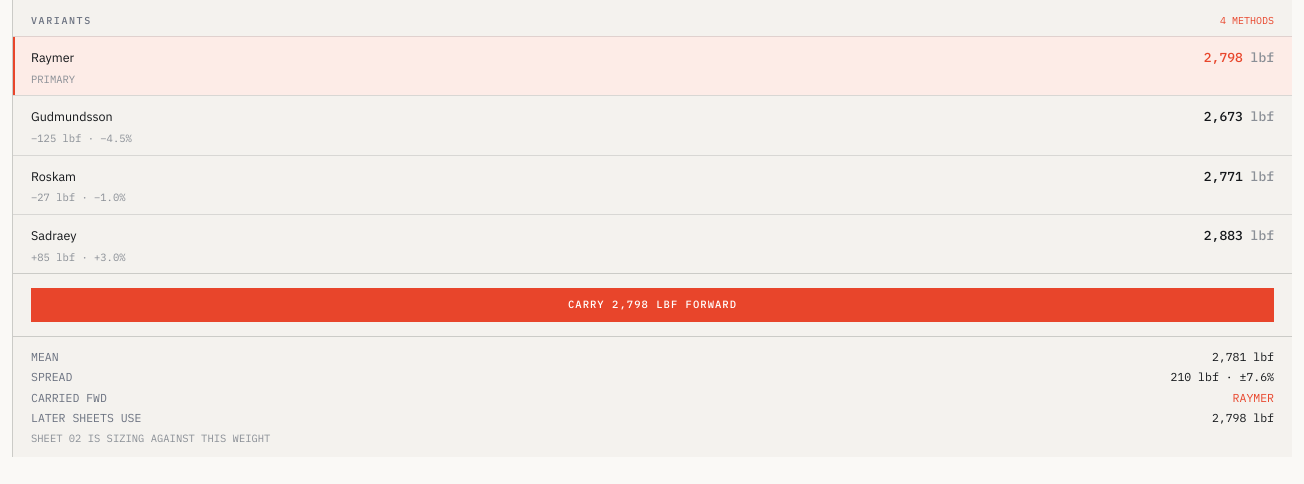
Test: picking another method promotes it and re-bases the deltas
Click the button "Sadraey 2,883 lbf +85 lbf · +3.0%": x=54, y=235 [13, 214, 1292, 273]
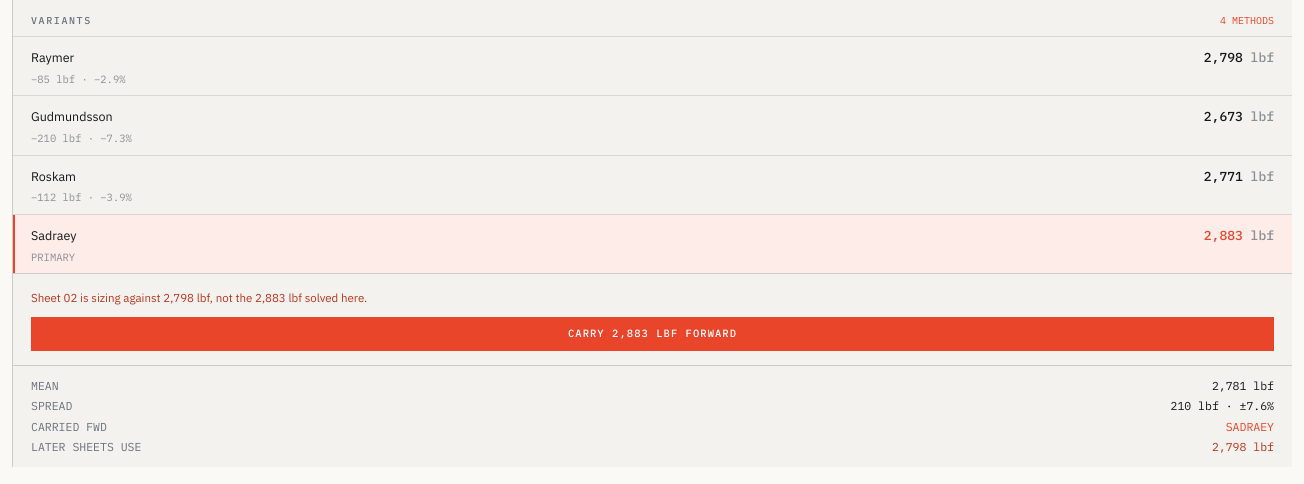
Now the text "SADRAEY" is shown, box [1226, 421, 1274, 432]
